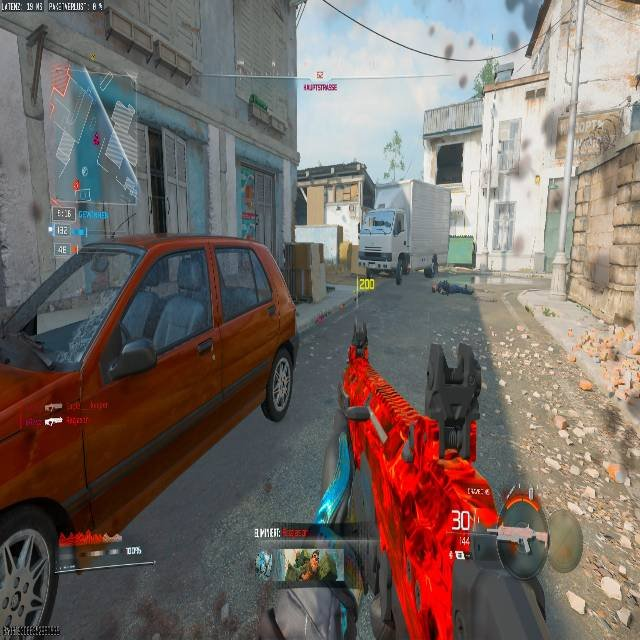player: (109, 229, 118, 241)
